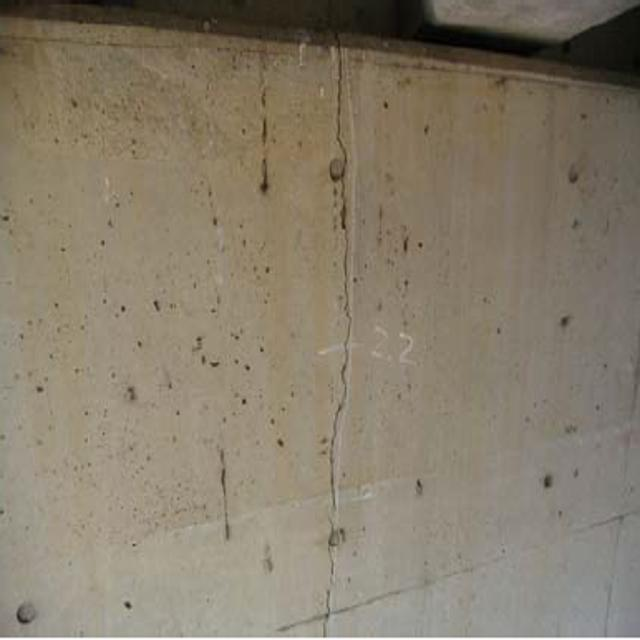crack: (314, 24, 382, 639)
